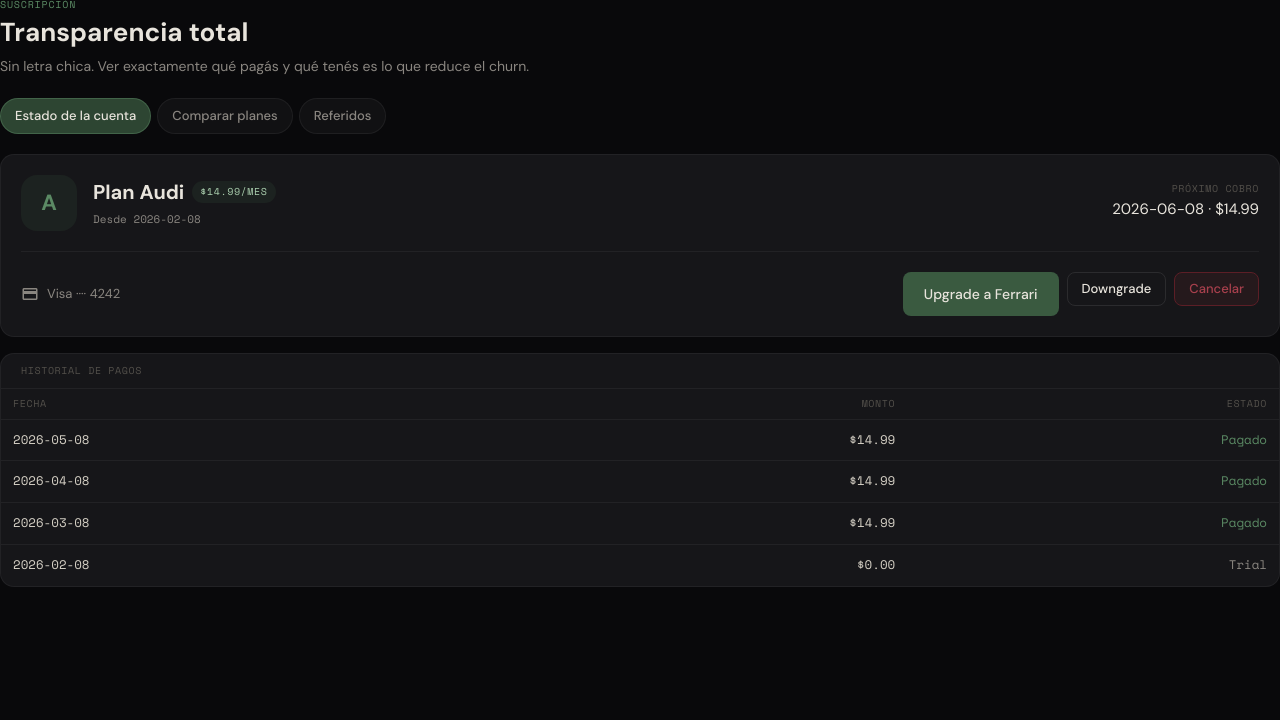
Test: Subscription › shows the current plan, payment history and a cancel flow
Expected: the text "Plan Audi" is shown, [93,177,184,207]
Expected: the text "Visa ···· 4242" is shown, [21,284,120,303]
Click the button "Cancelar" at [1217, 289], box [1174,272,1259,306]
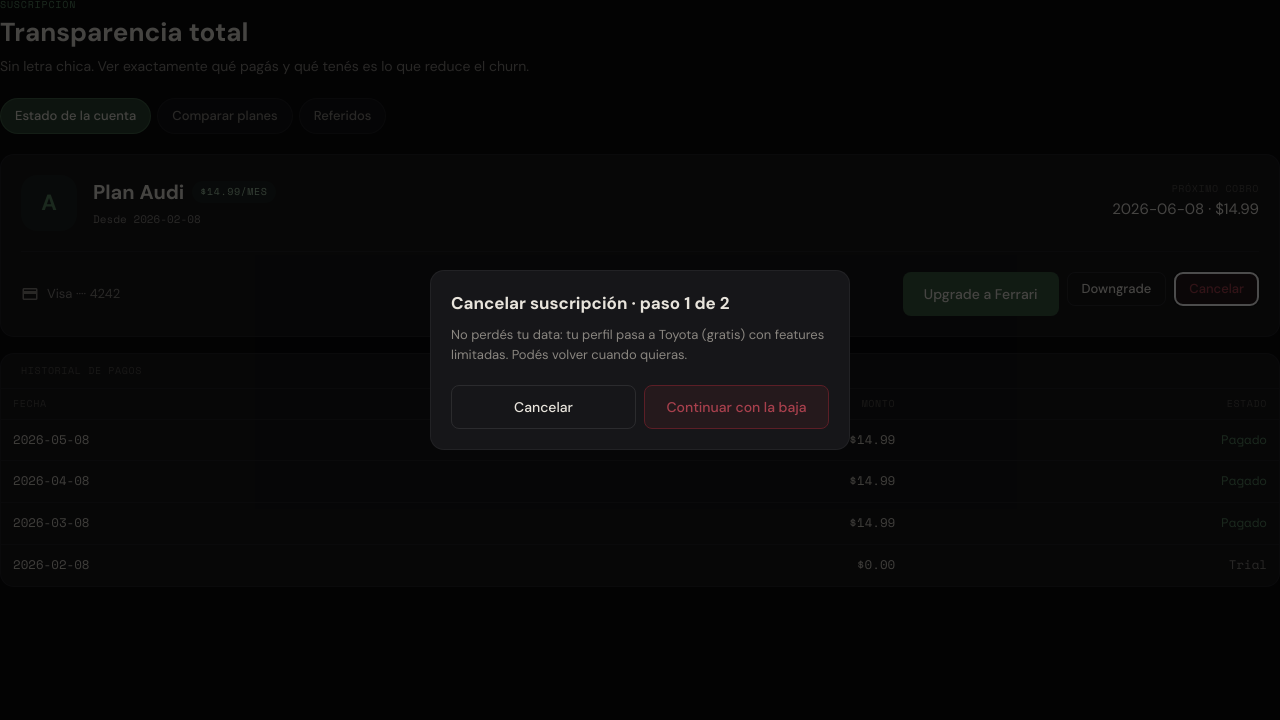
Now the heading "Cancelar suscripción · paso 1 de 2" is shown, box [451,292,730,314]
